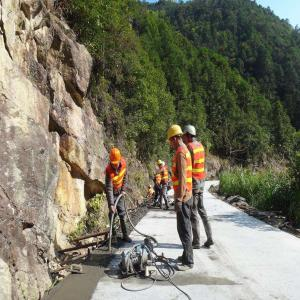white: (184, 124, 197, 145)
yellow: (167, 125, 184, 151), (109, 147, 122, 171), (157, 160, 164, 171)
